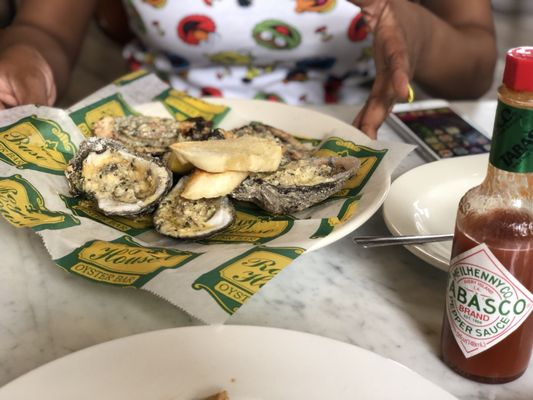burger: (440, 42, 533, 387)
curry: (6, 64, 533, 400)
